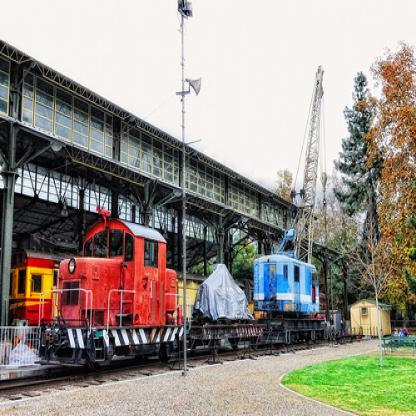train: (41, 66, 325, 369), (12, 248, 253, 341)
